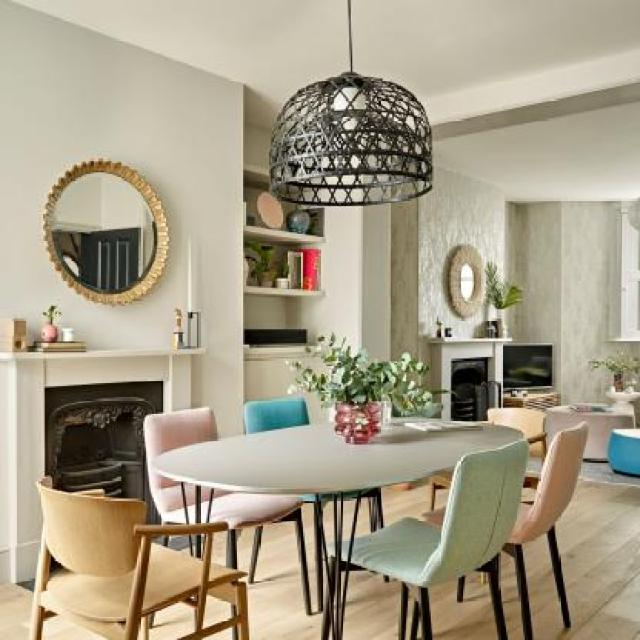floor: (432, 461, 639, 640), (247, 519, 324, 640), (0, 557, 39, 638), (387, 480, 433, 521), (46, 621, 132, 640)
